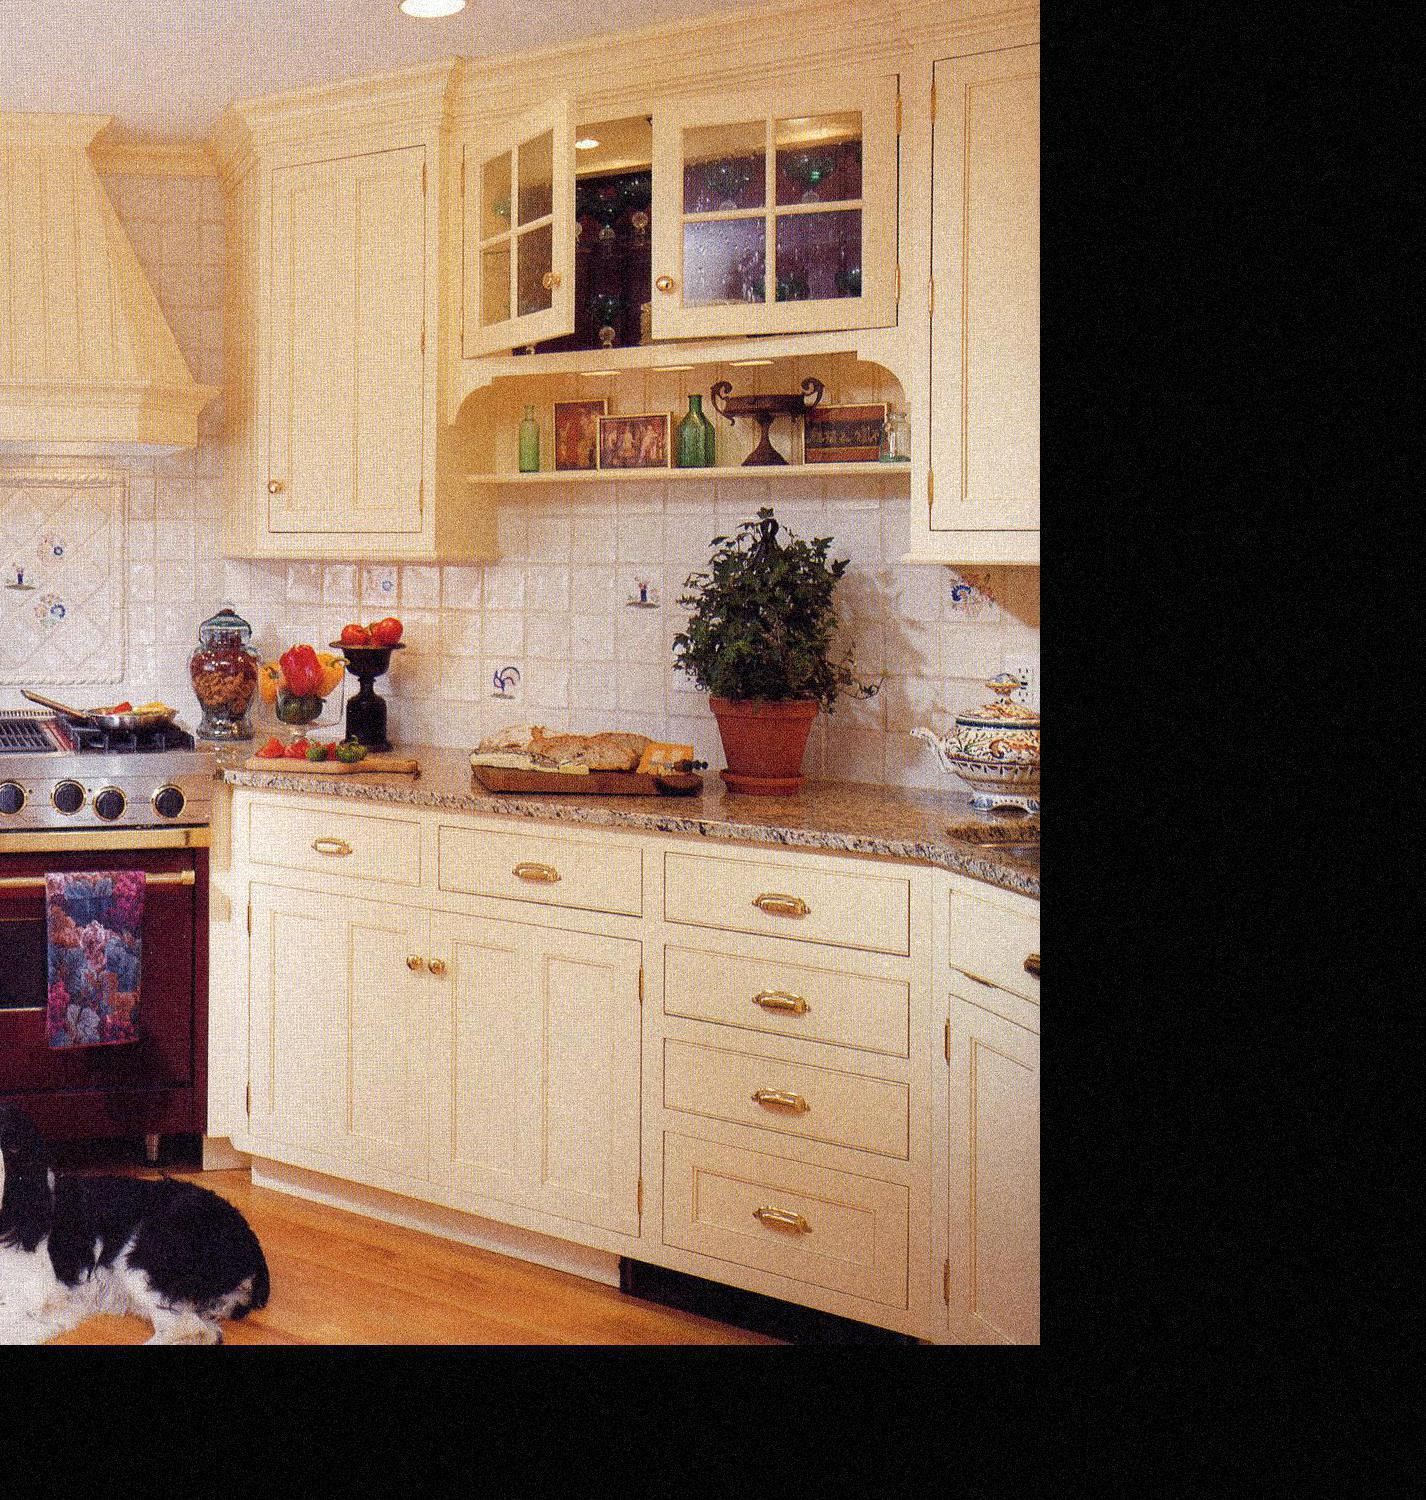Electrodomestico: (0, 767, 202, 1134)
Matera: (669, 518, 874, 804)
Otro Obstaculo: (0, 1093, 279, 1337)
